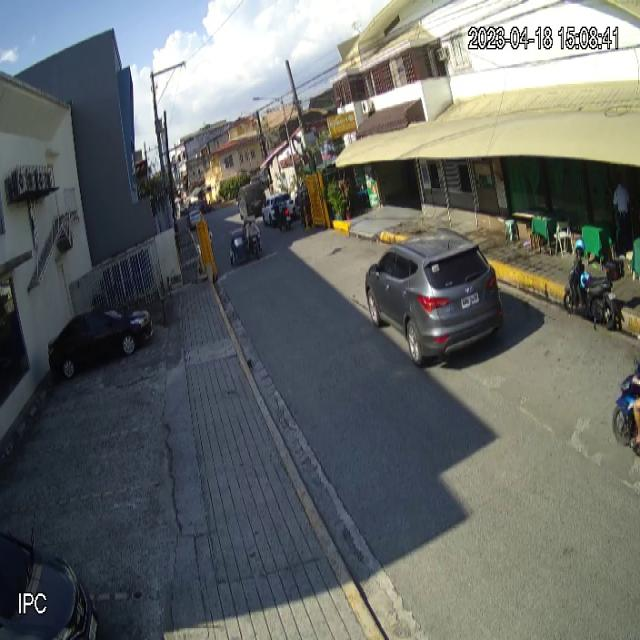Car: (365, 229, 504, 367), (48, 304, 154, 381)
Motorcycle: (564, 252, 626, 330)
